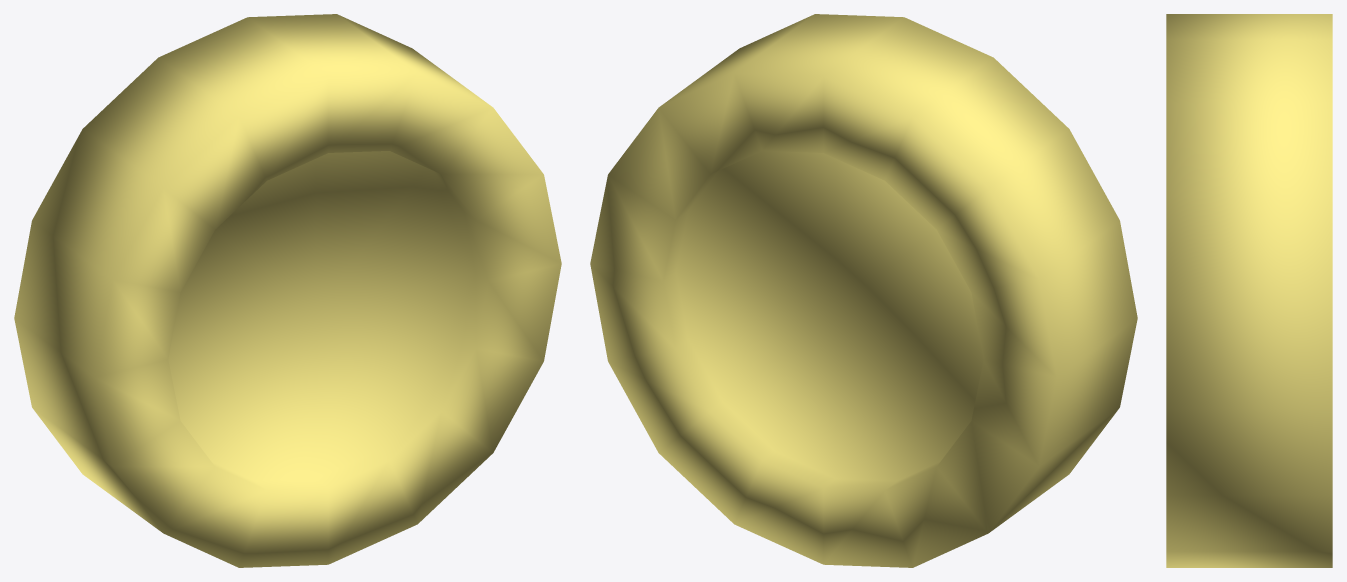
Rendered from PickupCoin.dae.
3 renders of one model, left to right at view 1: azimuth 30°, elevation 25°; view 2: azimuth 150°, elevation 25°; view 3: azimuth 270°, elevation 25°, orthographic. The views are drawn at different scales.
Parts seen in each view (by area): view 1: Coin; view 2: Coin; view 3: Coin.
Part boxes in pixels (x1,y1,x2,y2): Coin: [14, 14, 561, 567]; Coin: [590, 14, 1137, 567]; Coin: [1166, 14, 1332, 567].
Bounding box in the file's own units: 0.2122 × 0.0637 × 0.2122.
